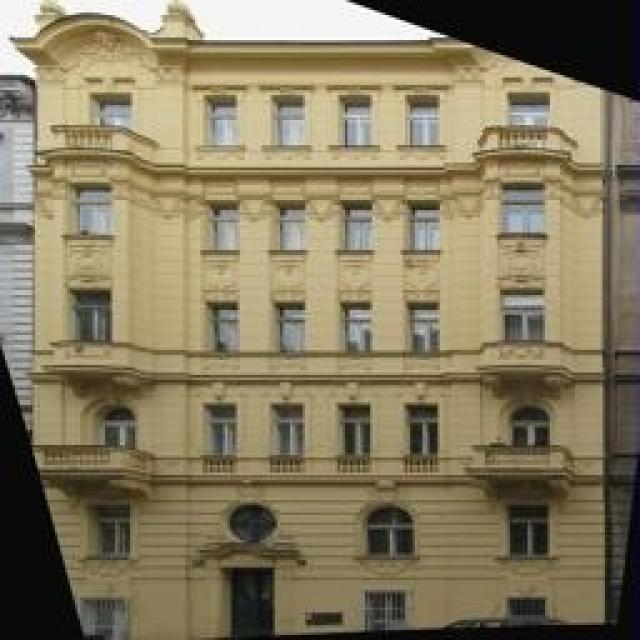building: (22, 5, 610, 637)
